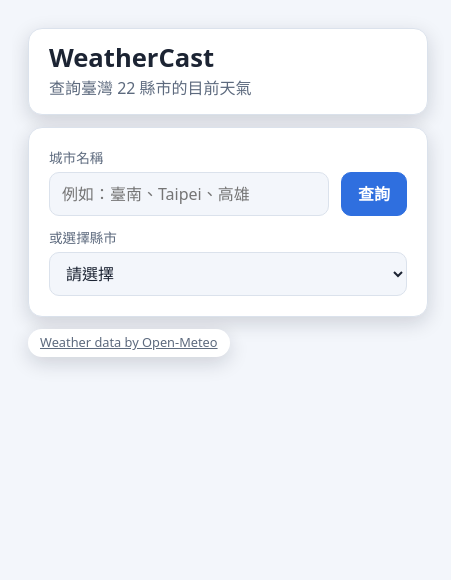
App › shows the server error state
Type "Tokyo" into the field labelled "城市名稱".
click(189, 194); type("Tokyo")  # box [49,172,329,216]
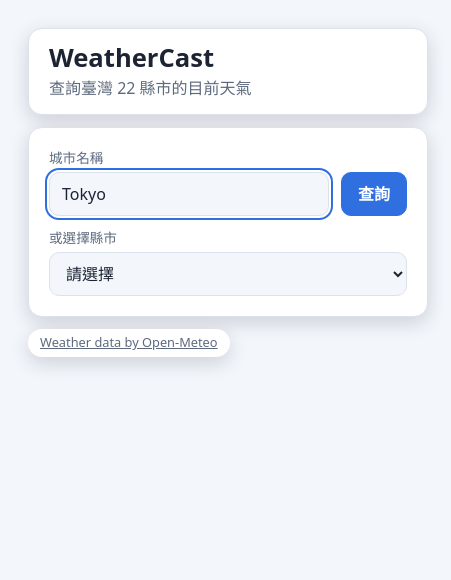
Click the button "查詢".
click(374, 194)  # box [341,172,407,216]
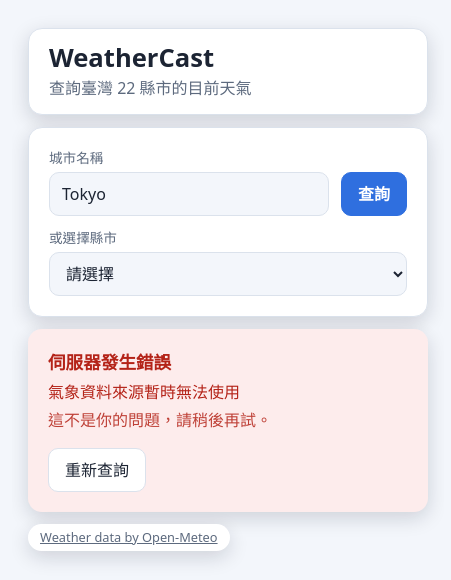
Check: the heading "伺服器發生錯誤" is shown, box [48,350,171,374]
